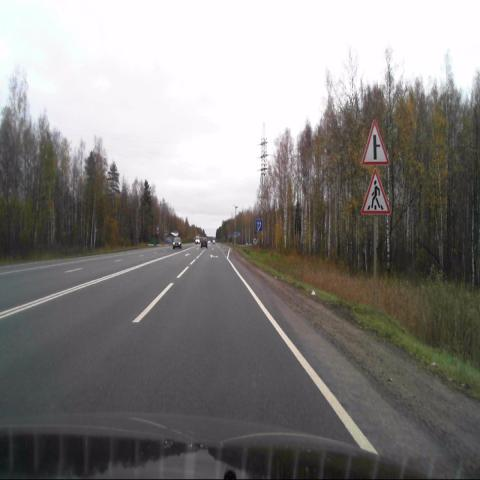1_22: (360, 168, 390, 214)
2_3_2: (362, 119, 388, 166)
5_15_3: (255, 219, 262, 231)
